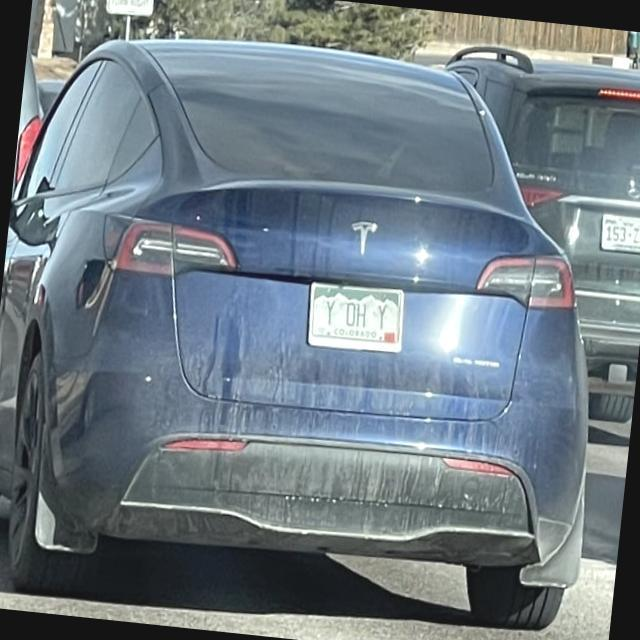license-plate: (309, 282, 440, 370)
